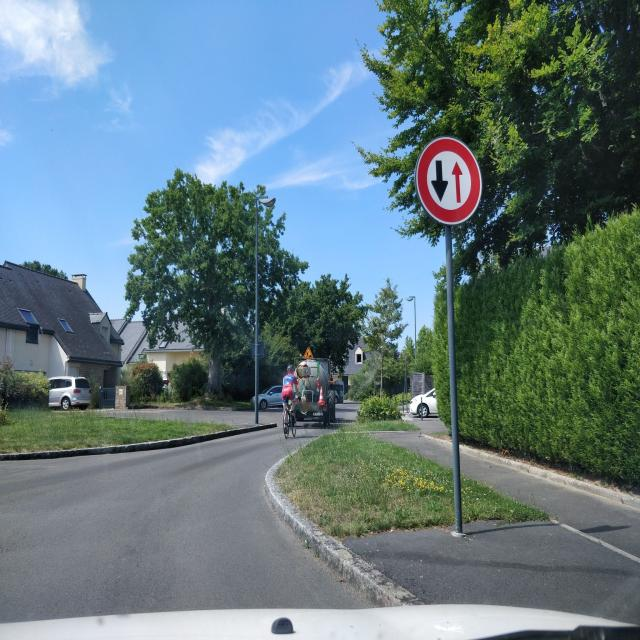car: (281, 356, 337, 429), (47, 375, 92, 411), (409, 386, 440, 420), (249, 384, 285, 411)
